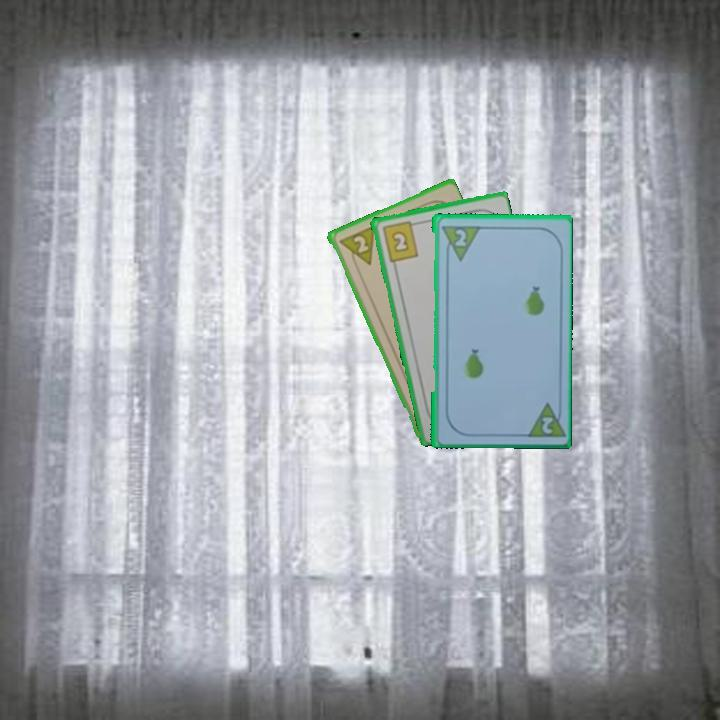2b: (379, 217, 421, 264)
2p: (335, 222, 377, 273), (450, 225, 469, 249), (538, 413, 555, 437)
